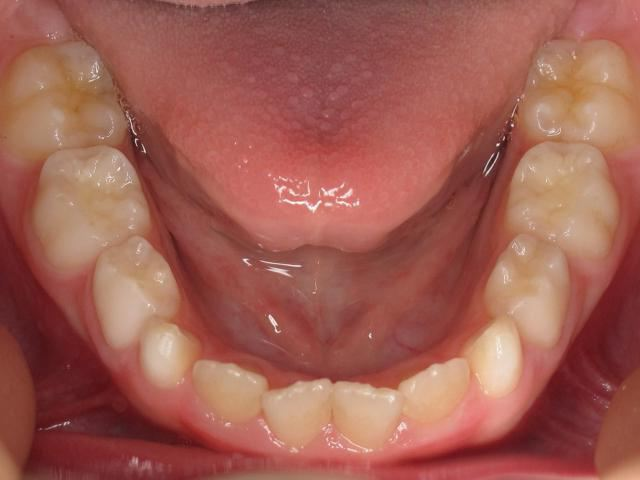LL1BC_healthy: (483, 233, 576, 348)
LL1M_healthy: (527, 34, 640, 148)
LL2BC_healthy: (504, 137, 620, 257)
LLCI_healthy: (334, 375, 402, 448)
LLC_healthy: (466, 314, 527, 402)
LLLI_healthy: (400, 353, 470, 420)
LR1BC_healthy: (95, 234, 185, 352)
LR1M_healthy: (7, 41, 133, 153)
LR2BC_healthy: (33, 146, 155, 272)
LRCI_healthy: (262, 373, 333, 450)
LRC_healthy: (133, 318, 205, 392)
LRLI_healthy: (188, 352, 274, 420)
